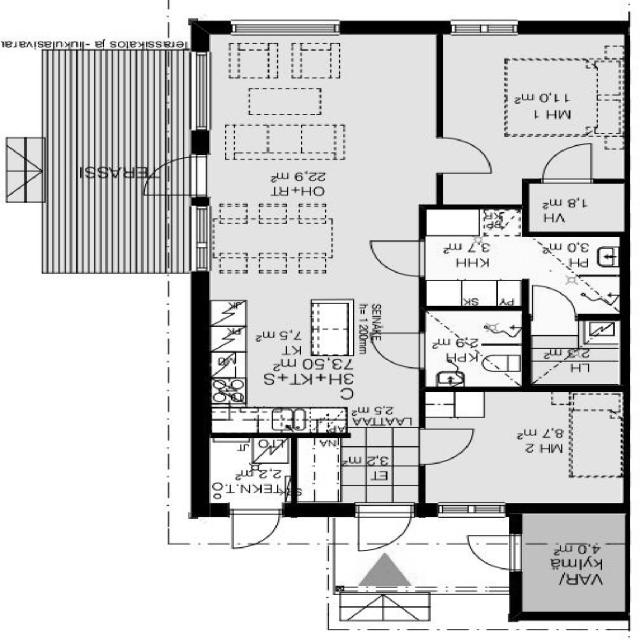door: (427, 128, 499, 185), (360, 320, 432, 376), (405, 424, 486, 473), (532, 143, 609, 190), (351, 505, 420, 555), (141, 157, 211, 199), (362, 236, 435, 276), (460, 530, 520, 578), (211, 508, 283, 546), (525, 284, 587, 324)
window: (177, 200, 220, 272), (217, 15, 355, 37), (438, 11, 534, 39), (186, 57, 222, 130), (434, 500, 508, 516)
zone: (200, 28, 427, 438), (446, 42, 614, 183), (423, 397, 623, 508), (422, 208, 628, 310), (425, 309, 529, 387)
